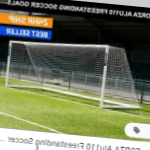goals: (4, 39, 143, 112)
